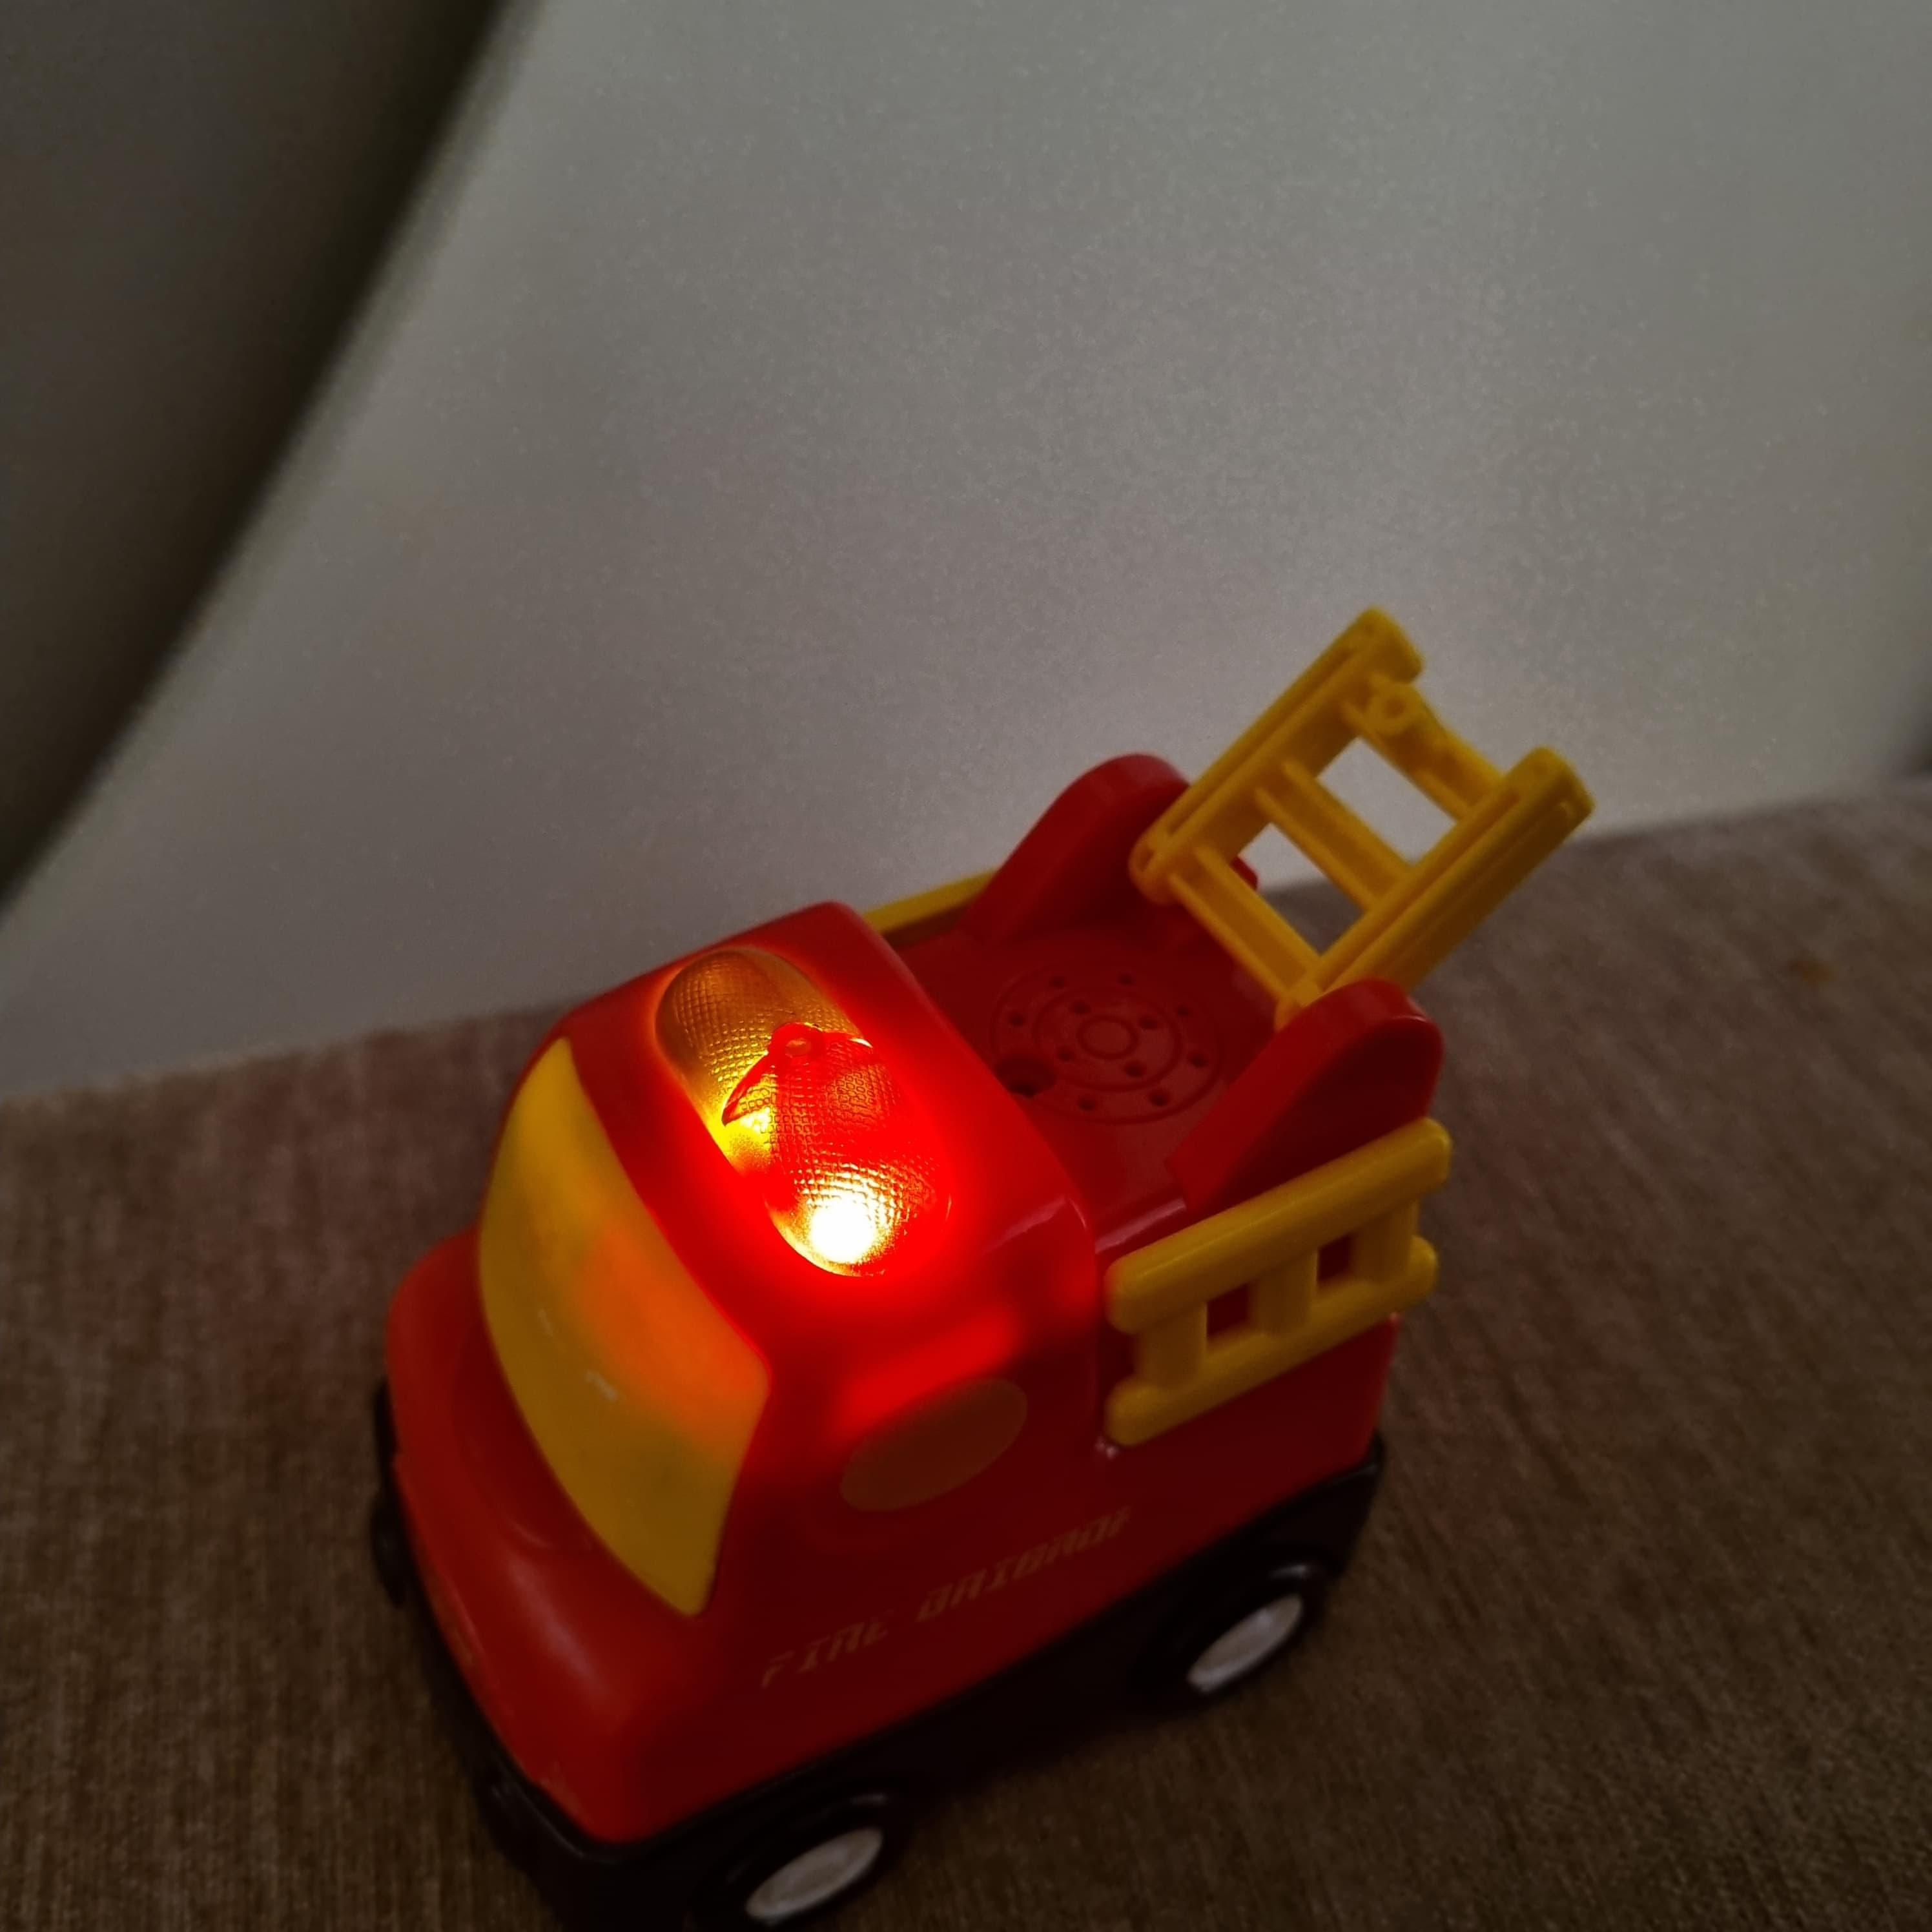firetruck_on: (363, 605, 1596, 1932)
